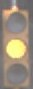Yellow: (3, 1, 32, 88)
